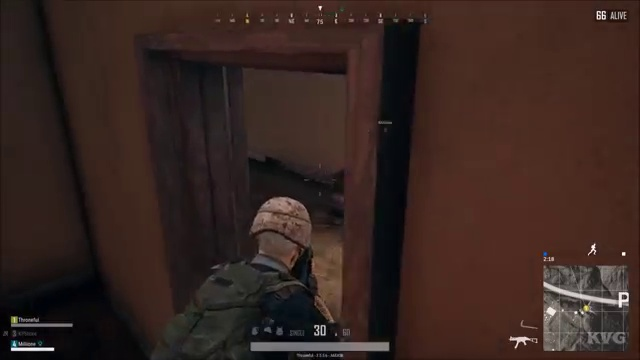Player: (189, 191, 343, 305)
